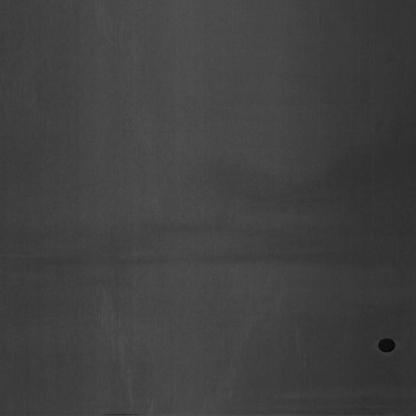punching_hole: (376, 335, 398, 358)
